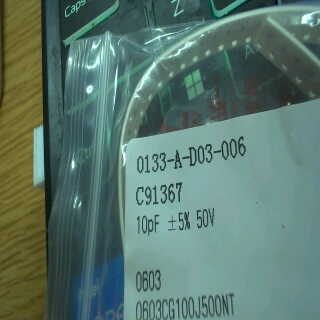10pF: (135, 214, 160, 240)
